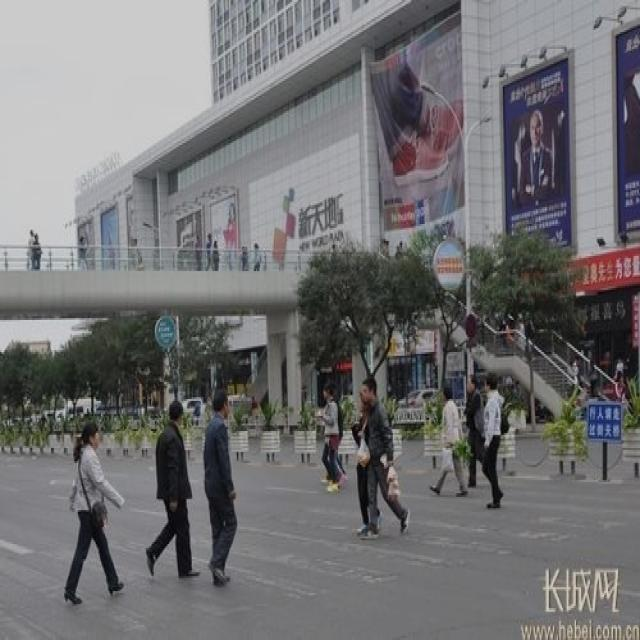non-fight: (61, 418, 128, 606), (348, 371, 408, 536), (143, 399, 196, 582), (201, 397, 241, 591), (474, 375, 508, 510), (428, 386, 464, 497), (315, 390, 340, 493)
